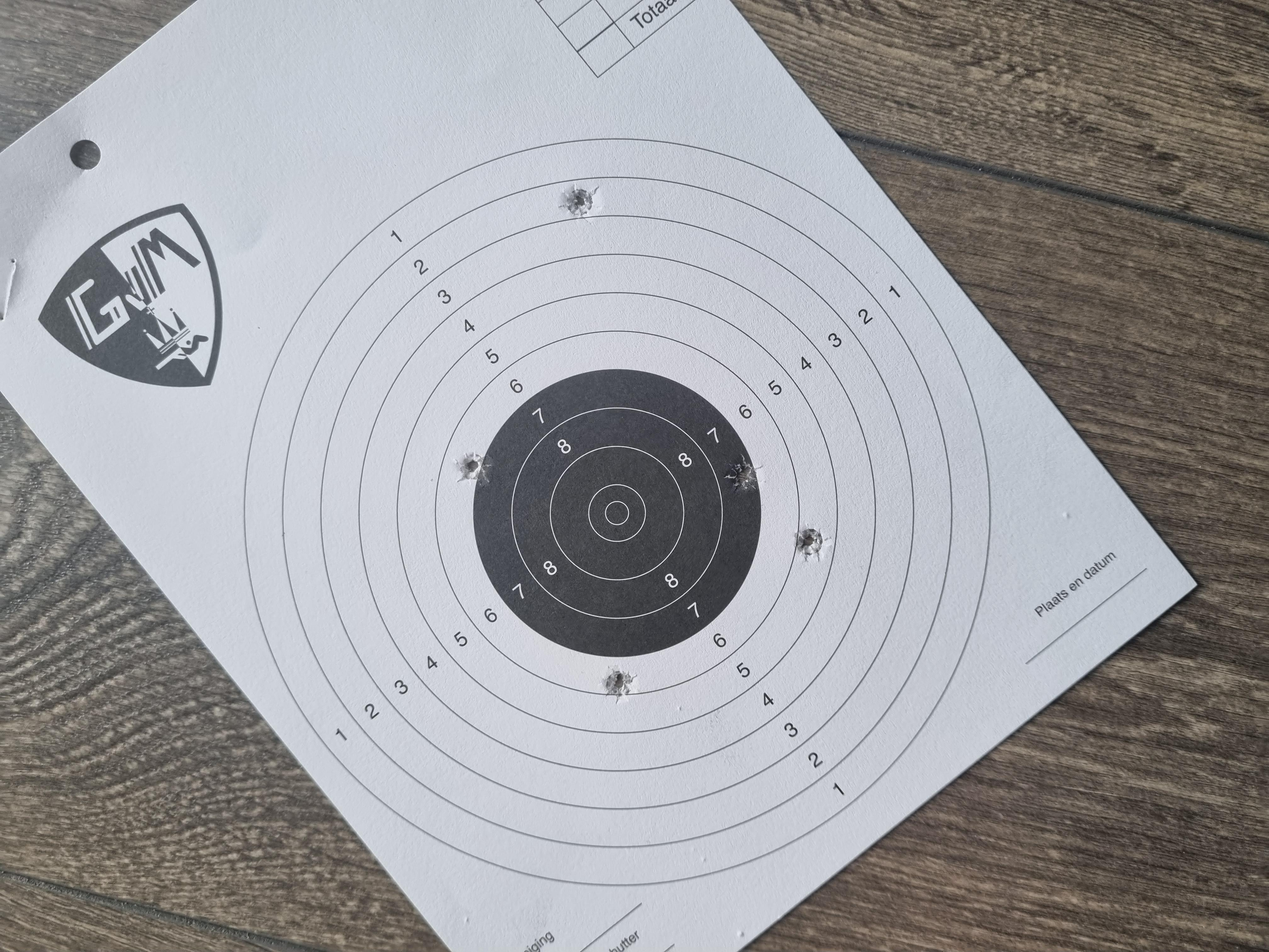hole: (611, 543, 662, 572), (521, 596, 565, 623), (330, 453, 376, 478), (623, 342, 666, 368), (977, 424, 1021, 449)
